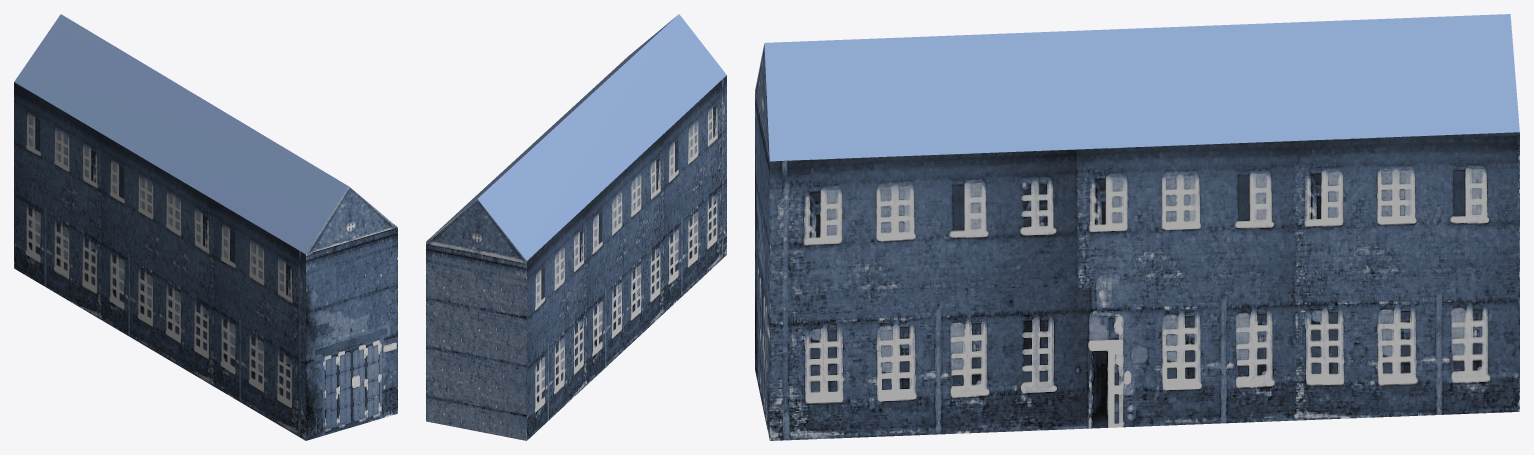
Rendered from Technische_Leitzentrale.gltf.
3 views of the same model, side by side, from view 1: azimuth 30°, elevation 25°; view 2: azimuth 150°, elevation 25°; view 3: azimuth 270°, elevation 25° (orthographic). The views are drawn at different scales.
Parts seen in each view (by area): view 1: Dach.1; view 2: Dach.1; view 3: Dach.1.
Boxes of the visible parts, x1=… form: Dach.1: x1=14, y1=14, x2=397, y2=440; Dach.1: x1=426, y1=14, x2=726, y2=440; Dach.1: x1=755, y1=14, x2=1519, y2=440.
Size of the model in its own units: 9.1 by 15.06 by 28.91.
6 materials, 5 textured.
